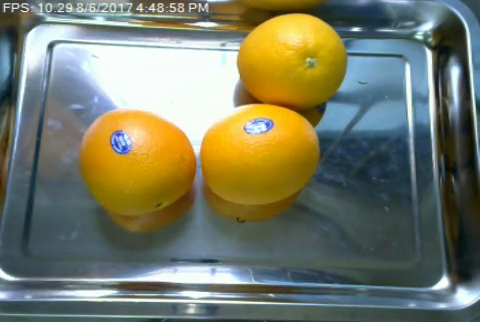Orange: (77, 108, 196, 216), (199, 103, 321, 206), (237, 13, 349, 111)
